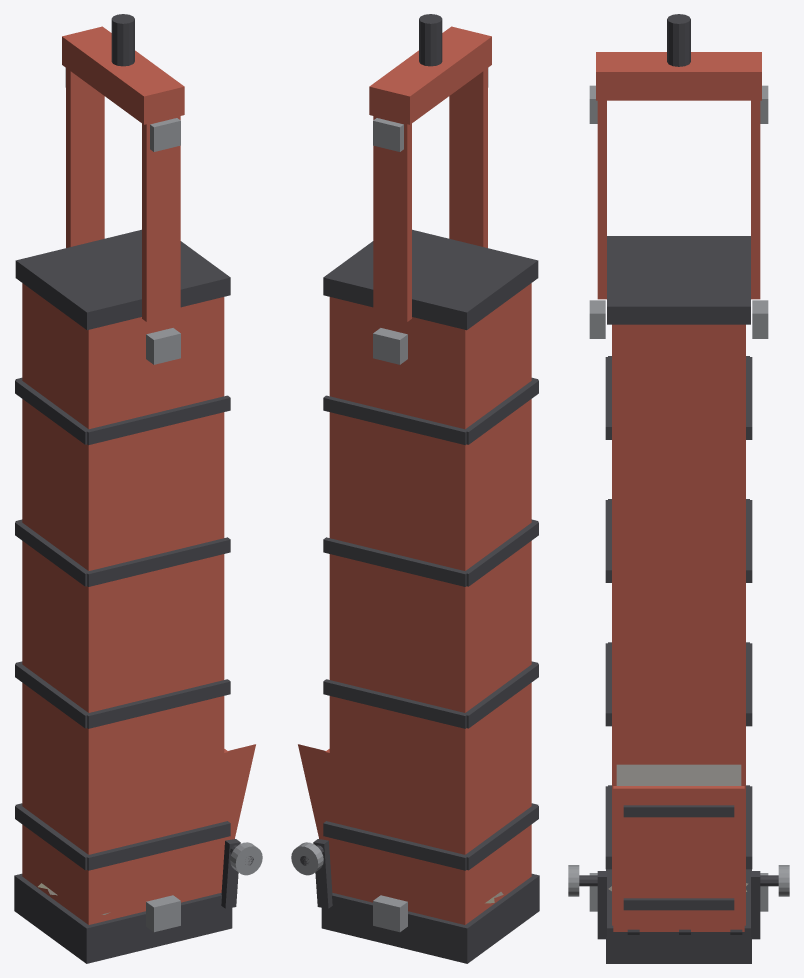
Rendered from SK_Skip.glb.
3 views of the same model, side by side, from view 1: azimuth 30°, elevation 25°; view 2: azimuth 150°, elevation 25°; view 3: azimuth 270°, elevation 25° (orthographic).
Visible parts, largest first — view 1: SK_Skip_Body, SK_Skip_Door; view 2: SK_Skip_Body, SK_Skip_Door; view 3: SK_Skip_Body, SK_Skip_Door.
Part boxes in pixels (<box>): SK_Skip_Body: <box>14,14,232,963</box>; SK_Skip_Door: <box>221,744,262,908</box>; SK_Skip_Body: <box>321,14,539,963</box>; SK_Skip_Door: <box>291,744,332,908</box>; SK_Skip_Body: <box>589,14,768,963</box>; SK_Skip_Door: <box>568,786,789,939</box>.
Size of the model in its own units: 2.61 by 12.7 by 2.8.
